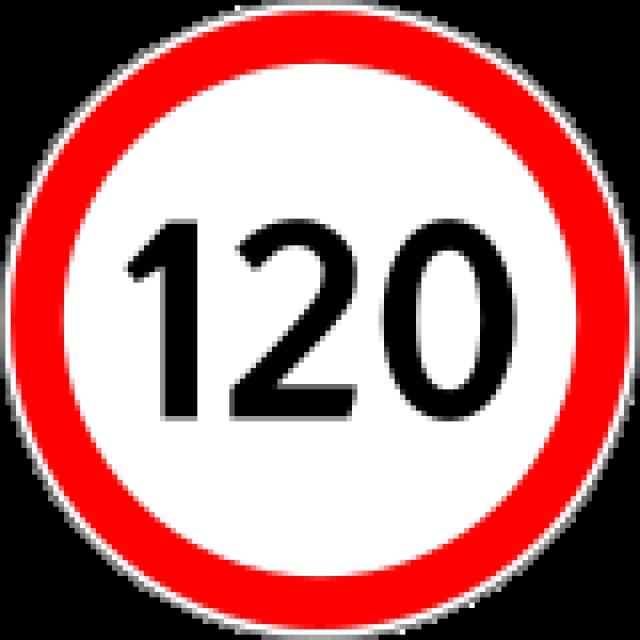Speed Limit -120-: (103, 179, 533, 455)
